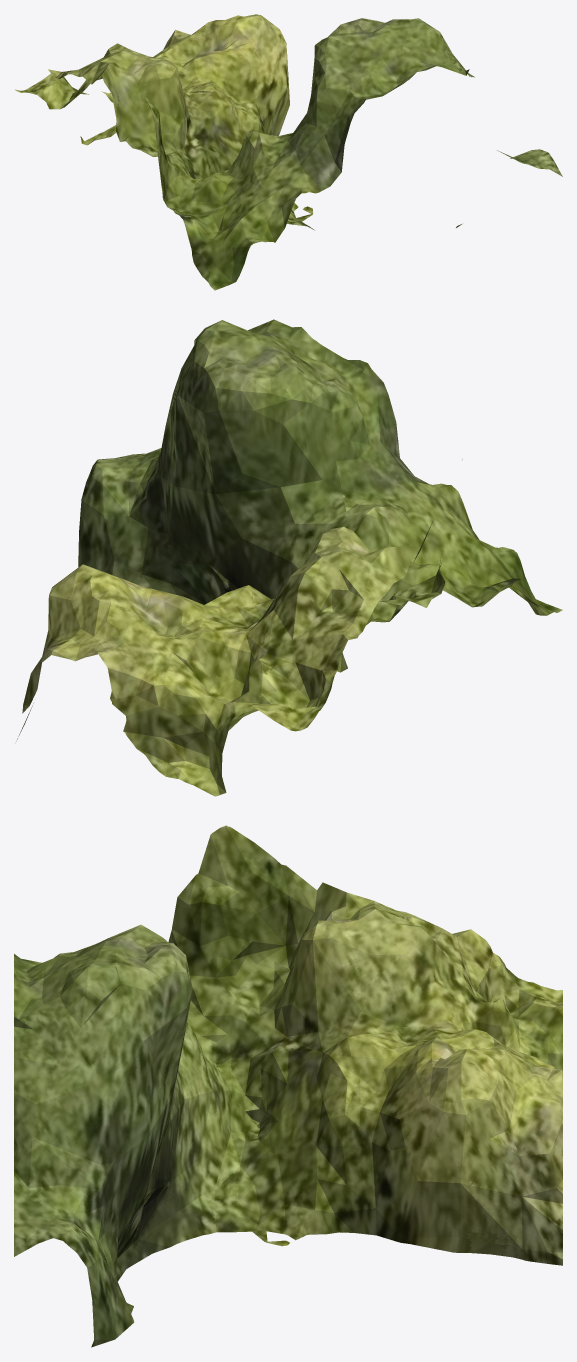
The picture shows the model from 3 angles, top to bottom: view 1: azimuth 30°, elevation 25°; view 2: azimuth 150°, elevation 25°; view 3: azimuth 270°, elevation 25°; orthographic projection. The views are drawn at different scales.
Bounding box in the file's own units: 2.95 × 1.82 × 2.95.
Materials: 3 (3 with a texture image).
